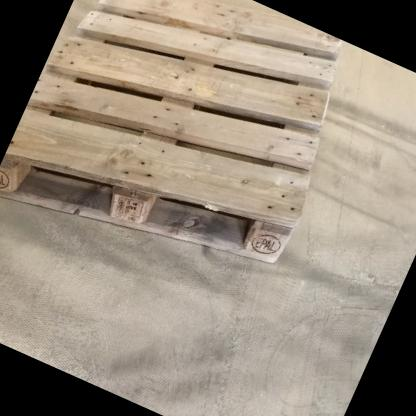BoxFace: (0, 0, 346, 271)
